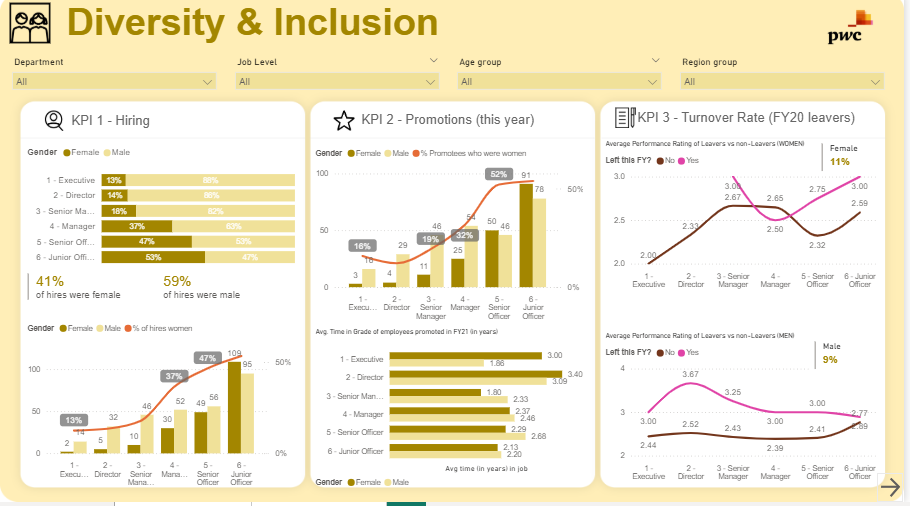

The dashboard page shown, as its layout file describes it:
{"tool":"powerbi","page":{"name":"HR Manager (1/2)","canvas":[1280,720],"ordinal":0},"visuals":[{"type":"hundredPercentStackedBarChart","fields":{"Series":["HR Manager.Gender"],"Y":["CountNonNull(HR Manager.Employee ID)"],"Category":["HR Manager.Job Level after FY20 promotions"]},"box":[33.8,205.9,389.2,190.1],"z":0},{"type":"multiRowCard","fields":{"Values":["HR Manager.% of hires women","HR Manager.% of hires men"]},"box":[33.6,391,382.9,63.7],"z":1000},{"type":"lineClusteredColumnComboChart","fields":{"Category":["HR Manager.Job Level after FY20 promotions"],"Series":["HR Manager.Gender"],"Y":["CountNonNull(HR Manager.Employee ID)"],"Y2":["HR Manager.% of hires women"]},"box":[33.6,455.6,382.9,250.8],"z":2000},{"type":"textbox","box":[96.2,162.3,315.4,35.7],"z":3000},{"type":"textbox","box":[507.2,161.6,315.4,35.7],"z":4000},{"type":"image","box":[467.3,159.3,39.5,40.5],"z":5000},{"type":"lineClusteredColumnComboChart","fields":{"Y":["CountNonNull(HR Manager.Employee ID)"],"Series":["HR Manager.Gender"],"Y2":["HR Manager.% Promotees who were women"],"Category":["HR Manager.Job Level after FY21 promotions"]},"box":[442.1,207,389.2,263.2],"z":6000},{"type":"image","box":[1129,0,151,94.5],"z":7000},{"type":"image","box":[8.7,0,67.5,81],"z":8000},{"type":"image","box":[56.6,160.4,39.5,38.6],"z":9000},{"type":"textbox","box":[898.9,158.6,335.2,34.9],"z":10000},{"type":"clusteredBarChart","title":"Avg. Time in Grade of employees promoted in FY21 (in years)","fields":{"Category":["HR Manager.Job Level after FY20 promotions"],"Series":["HR Manager.Gender"],"Y":["Avg(HR Manager.Time in Job Level @01.07.2020)"]},"box":[441.8,473.6,389.7,236.3],"z":11000},{"type":"lineChart","title":"Average Performance Rating of Leavers vs non-Leavers (WOMEN)","fields":{"Category":["HR Manager.Job Level after FY20 promotions"],"Y":["Avg(HR Manager.FY19 Performance Rating)"],"Series":["HR Manager.FY20 leaver?"]},"box":[852.7,207.4,398.4,218],"z":12000},{"type":"lineChart","title":"Average Performance Rating of Leavers vs non-Leavers (MEN)","fields":{"Category":["HR Manager.Job Level after FY20 promotions"],"Y":["Avg(HR Manager.FY19 Performance Rating)"],"Series":["HR Manager.FY20 leaver?"]},"box":[852.7,479.4,398.4,218],"z":13000},{"type":"multiRowCard","fields":{"Values":["HR Manager.Gender","HR Manager.% Turnover"]},"box":[1159.9,207,93.4,51.8],"z":14000},{"type":"multiRowCard","fields":{"Values":["HR Manager.Gender","HR Manager.% Turnover"]},"box":[1148.8,487.1,93.6,52.1],"z":15000},{"type":"image","box":[863.1,155.8,47.3,38.6],"z":16000},{"type":"actionButton","box":[1243.1,679.1,36.9,40.2],"z":17000},{"type":"slicer","fields":{"Values":["HR Manager.Job Level after FY20 promotions"]},"box":[322.5,83.9,310,55.9],"z":18000},{"type":"slicer","fields":{"Values":["HR Manager.Age group"]},"box":[638.2,83.9,310,55.9],"z":19000},{"type":"slicer","fields":{"Values":["HR Manager.Last Department in FY20"]},"box":[6.8,83.9,310,55.9],"z":20000},{"type":"slicer","fields":{"Values":["HR Manager.Broad region group: nationality 1"]},"box":[954,83.9,310,55.9],"z":21000},{"type":"textbox","box":[88.7,4.8,1172.9,75.2],"z":22000}]}

Visuals, with their boxes in screenshot pixels (x1, y1, x2, y2), scaled from the page's 1280x720 canvas onto the 910x506 screenshot:
hundredPercentStackedBarChart - HR Manager.Gender x CountNonNull(HR Manager.Employee ID): 24,145,301,278
multiRowCard - HR Manager.% of hires women x HR Manager.% of hires men: 24,275,296,320
lineClusteredColumnComboChart - HR Manager.Job Level after FY20 promotions x HR Manager.Gender: 24,320,296,496
textbox: 68,114,293,139
textbox: 361,114,585,139
image: 332,112,360,140
lineClusteredColumnComboChart - CountNonNull(HR Manager.Employee ID) x HR Manager.Gender: 314,145,591,330
image: 803,0,909,66
image: 6,0,54,57
image: 40,113,68,140
textbox: 639,111,877,136
"Avg. Time in Grade of employees promoted in FY21 (in years)" clusteredBarChart: 314,333,591,499
"Average Performance Rating of Leavers vs non-Leavers (WOMEN)" lineChart: 606,146,889,299
"Average Performance Rating of Leavers vs non-Leavers (MEN)" lineChart: 606,337,889,490
multiRowCard - HR Manager.Gender x HR Manager.% Turnover: 825,145,891,182
multiRowCard - HR Manager.Gender x HR Manager.% Turnover: 817,342,883,379
image: 614,109,647,137
actionButton: 884,477,909,505
slicer - HR Manager.Job Level after FY20 promotions: 229,59,450,98
slicer - HR Manager.Age group: 454,59,674,98
slicer - HR Manager.Last Department in FY20: 5,59,225,98
slicer - HR Manager.Broad region group: nationality 1: 678,59,899,98
textbox: 63,3,897,56
